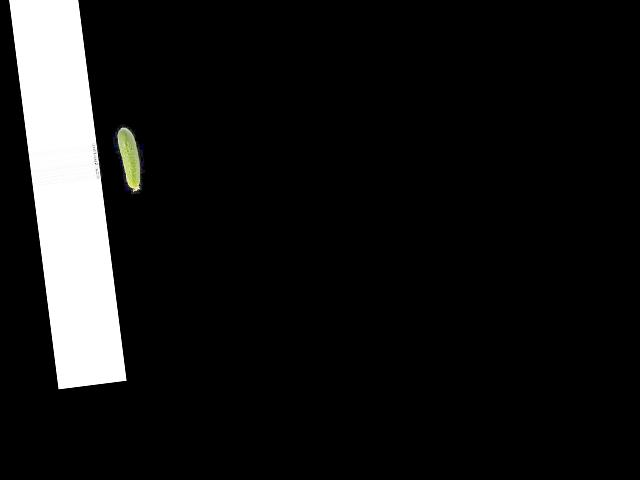cucumber: (116, 125, 142, 192)
